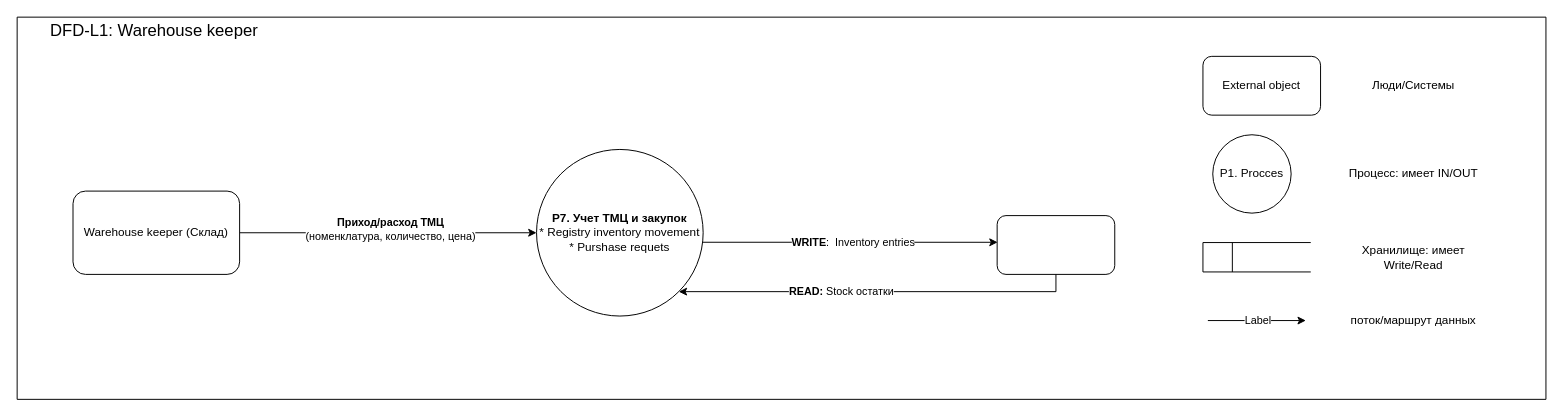
This 1563x417 diagram has some shape labels left out. Each missing label, with the centre of its shape:
"1С: Торговля и склад" belongs at pixel 1055 244.
"D1 Storage" belongs at pixel 1256 257.
